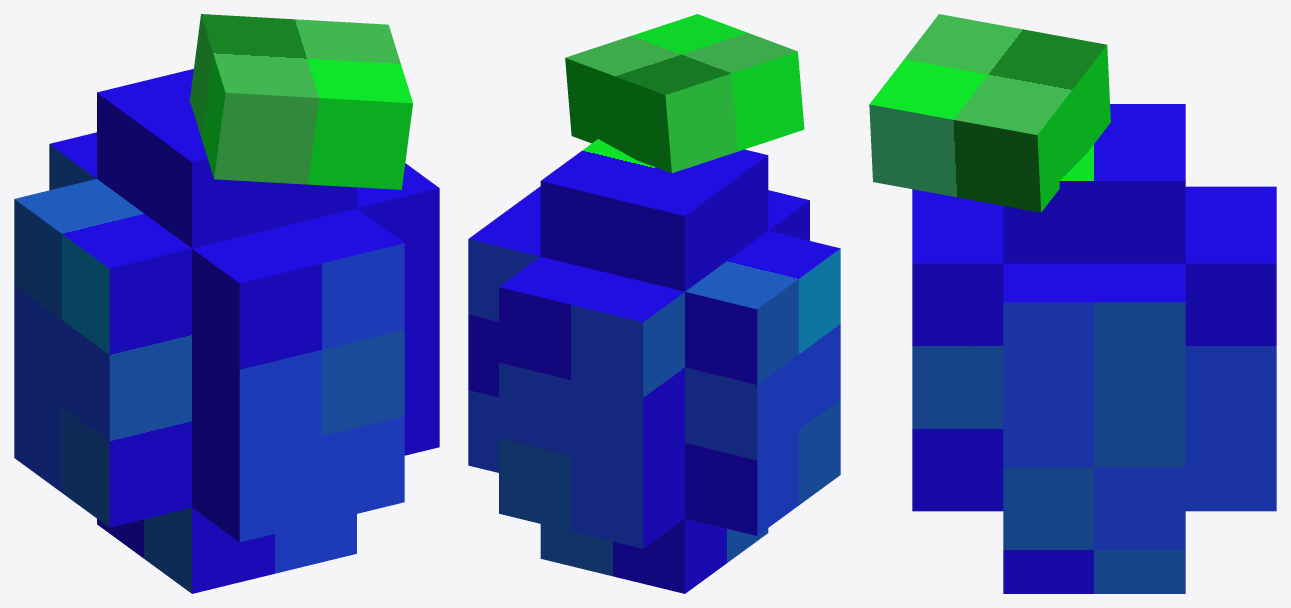
Rendered from BlueBerry.fbx.
3 views of the same model, side by side, from view 1: azimuth 30°, elevation 25°; view 2: azimuth 150°, elevation 25°; view 3: azimuth 270°, elevation 25° (orthographic). The views are drawn at different scales.
Parts seen in each view (by area): view 1: cube_5, cube_4, cube, cube_1, cube_2, cube_3, cube_6; view 2: cube_6, cube_4, cube, cube_1, cube_2, cube_3, cube_5; view 3: cube_2, cube, cube_6, cube_5, cube_1, cube_3.
Boxes of the visible parts, left/top/right/bottom form: cube_5: left=192, top=208, right=404, bottom=542; cube_4: left=14, top=179, right=191, bottom=527; cube: left=189, top=14, right=412, bottom=189; cube_1: left=97, top=69, right=356, bottom=248; cube_2: left=357, top=163, right=439, bottom=455; cube_3: left=97, top=507, right=356, bottom=593; cube_6: left=49, top=132, right=96, bottom=190; cube_6: left=499, top=256, right=684, bottom=548; cube_4: left=685, top=231, right=840, bottom=535; cube: left=565, top=14, right=804, bottom=173; cube_1: left=540, top=139, right=768, bottom=291; cube_2: left=468, top=186, right=540, bottom=472; cube_3: left=540, top=518, right=768, bottom=593; cube_5: left=768, top=190, right=809, bottom=240; cube_2: left=1003, top=263, right=1185, bottom=549; cube: left=869, top=14, right=1110, bottom=212; cube_6: left=1185, top=186, right=1276, bottom=511; cube_5: left=912, top=189, right=1003, bottom=511; cube_1: left=1003, top=104, right=1185, bottom=263; cube_3: left=1003, top=550, right=1185, bottom=593.
Bounding box in the file's own units: 25 × 38.06 × 27.94.
Materials: 1 (1 with a texture image).
